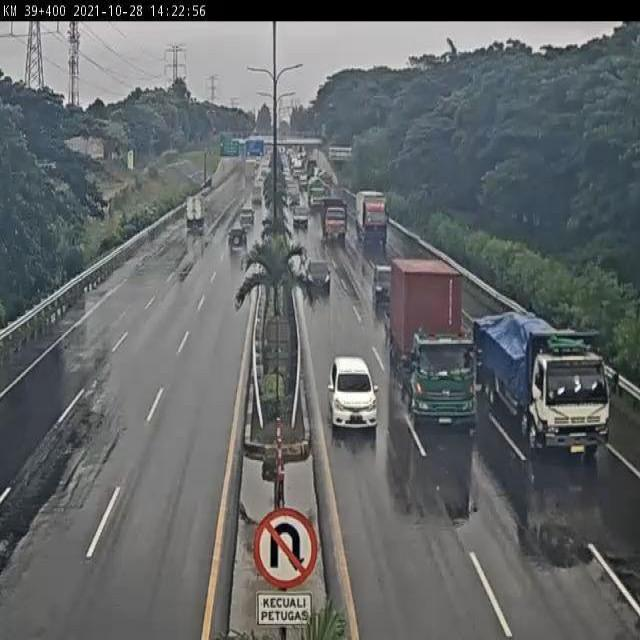truck-l-: (473, 312, 612, 457), (357, 191, 389, 245)
truck-s-: (322, 200, 348, 244)
truck-xl-: (388, 259, 477, 432)
